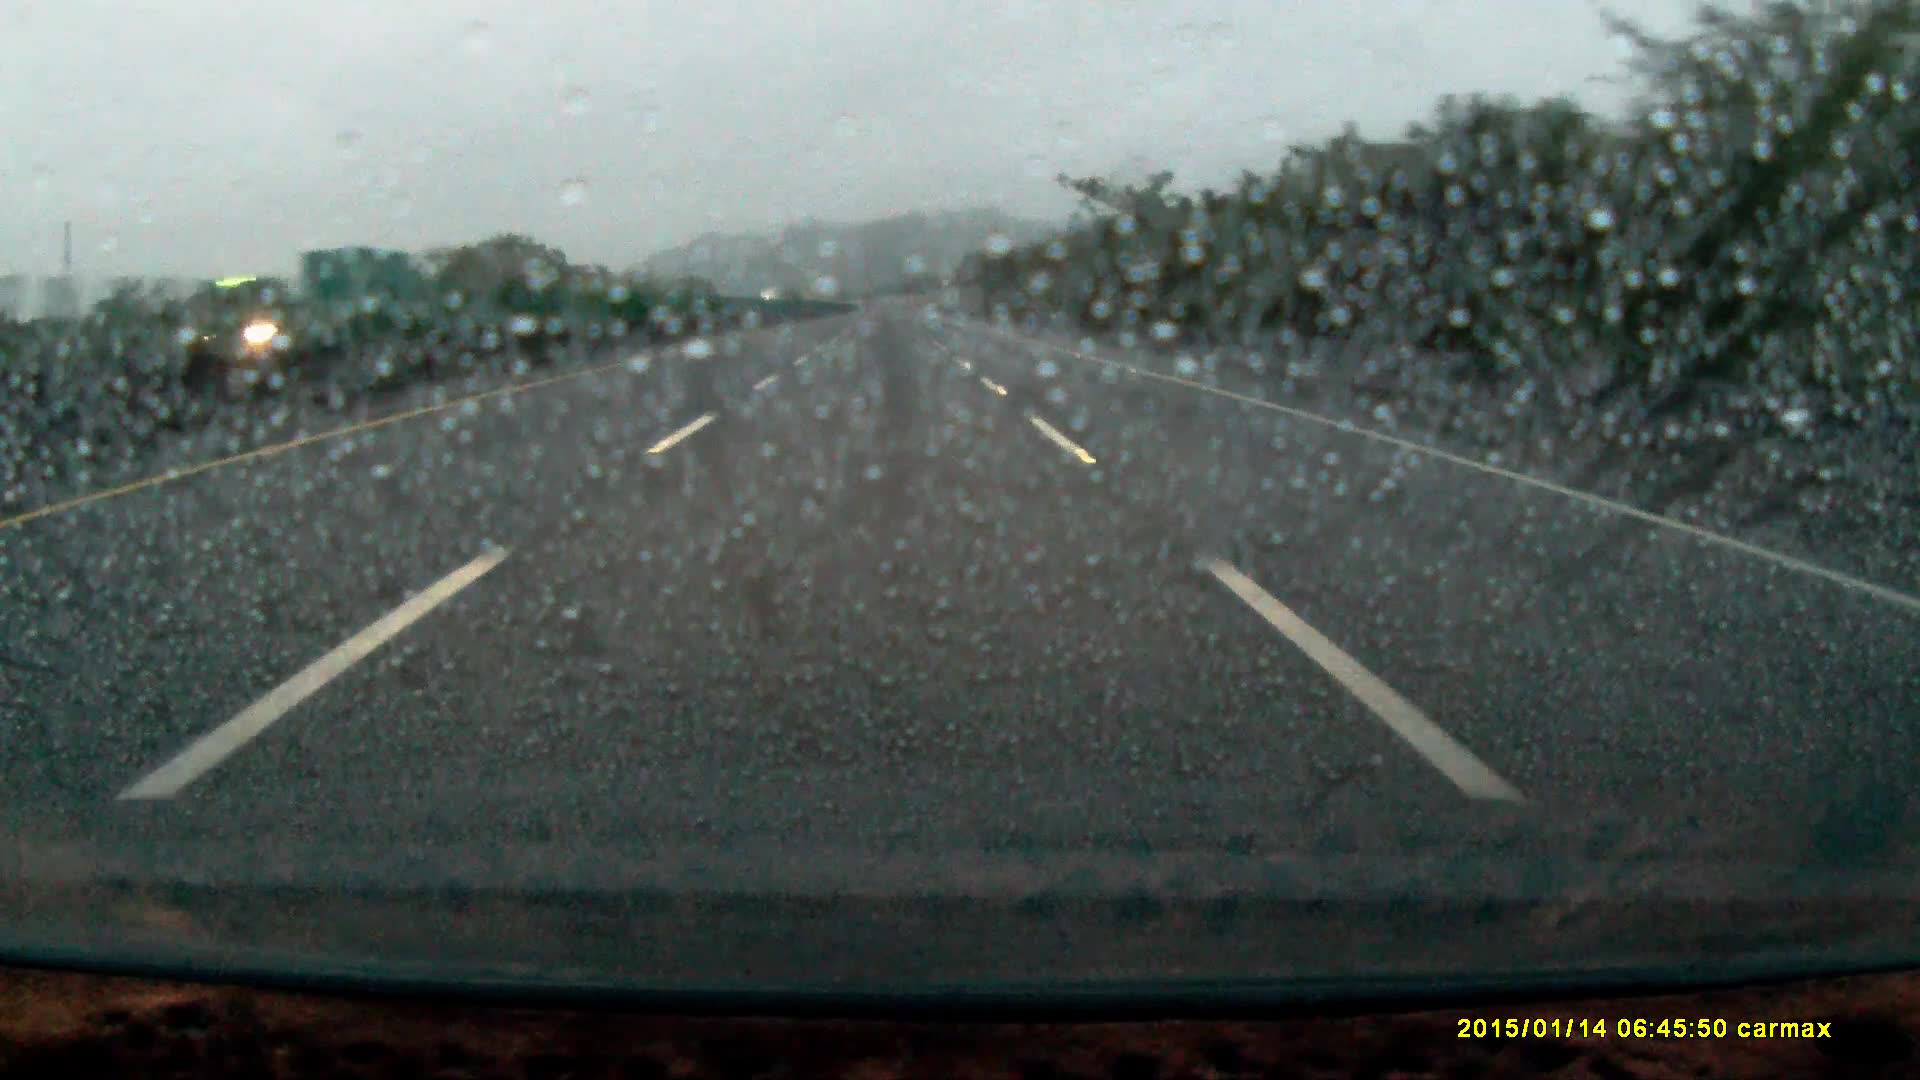vehicle: (175, 245, 419, 361)
